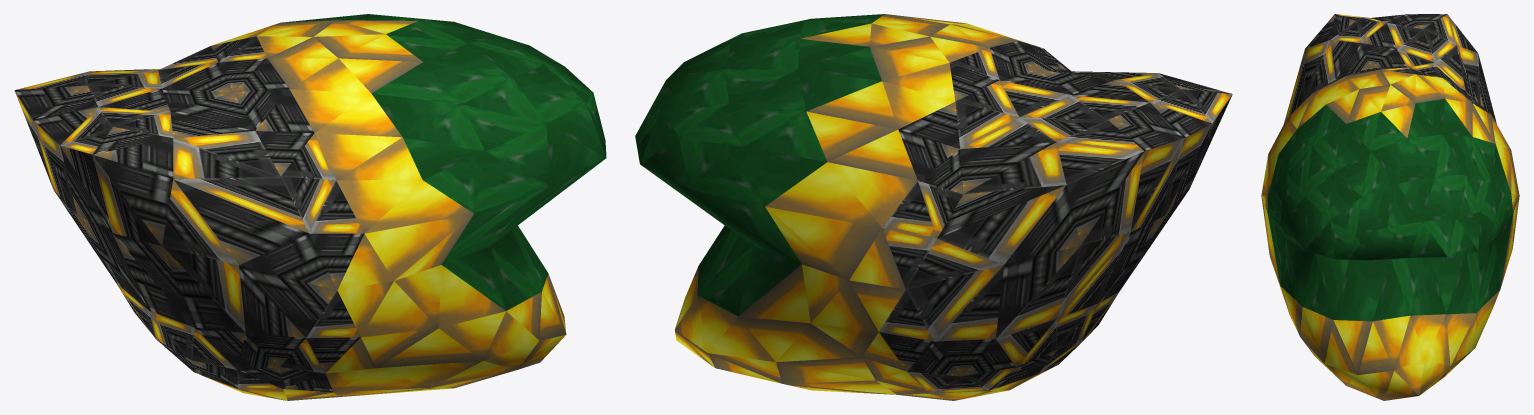
Rendered from blast_sphere.obj.
3 views of the same model, side by side, from view 1: azimuth 30°, elevation 25°; view 2: azimuth 150°, elevation 25°; view 3: azimuth 270°, elevation 25° (orthographic). The views are drawn at different scales.
Visible parts, largest first — view 1: sphere; view 2: sphere; view 3: sphere.
Boxes of the visible parts, box(x1,y1,x2,y2) form: sphere: box(14, 14, 606, 400); sphere: box(635, 14, 1232, 400); sphere: box(1261, 14, 1519, 400).
Size of the model in its own units: 26.95 by 17.68 by 16.89.
1 material, 1 textured.
